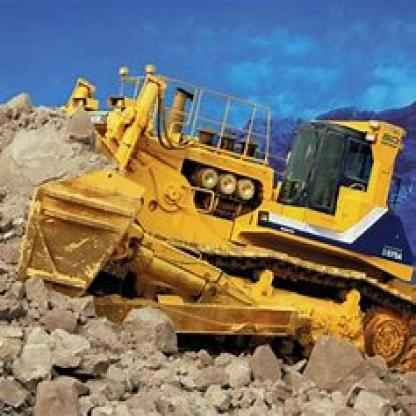bull_dozer/loader/grader: (30, 50, 414, 368)
